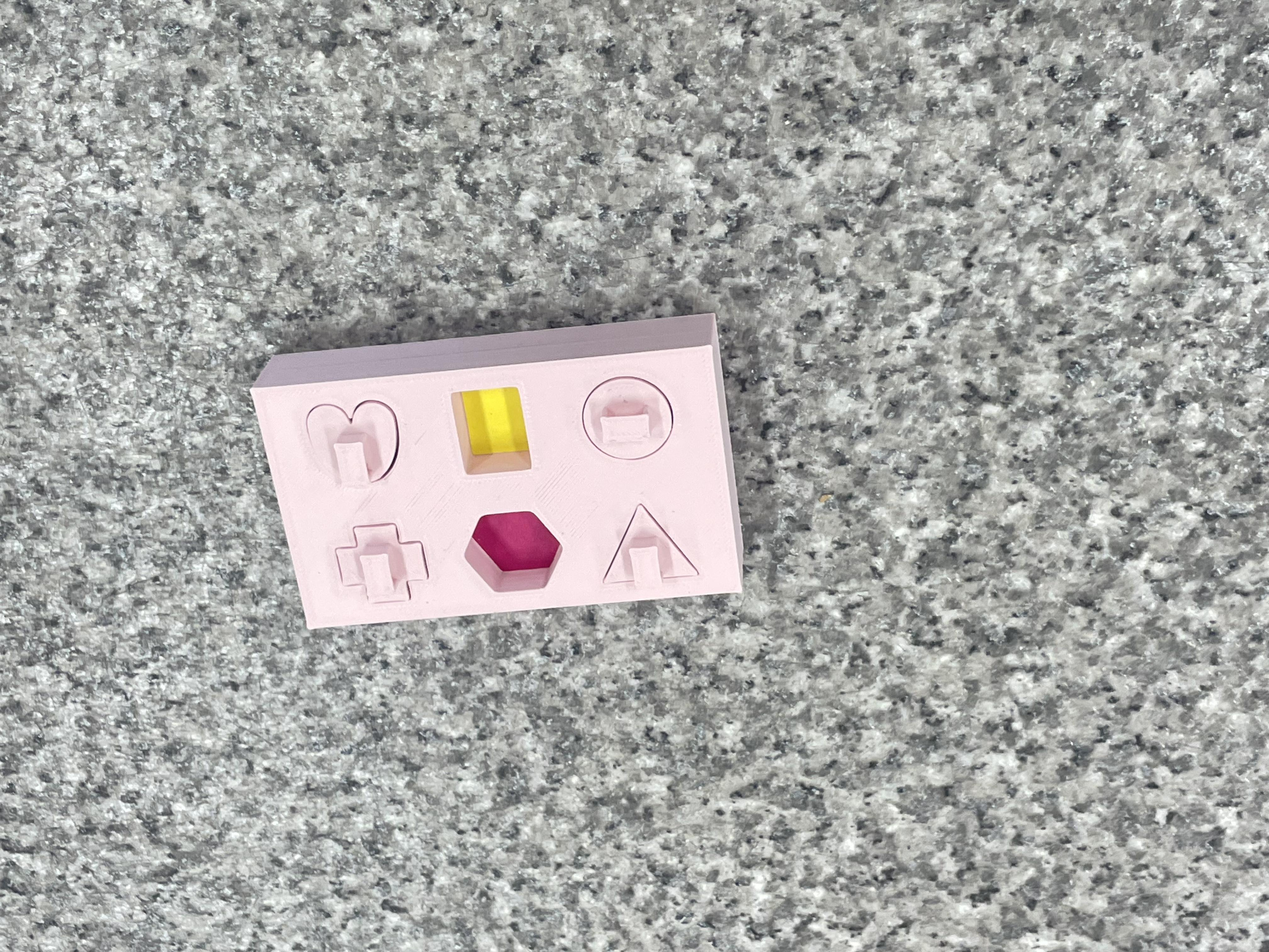unsolved: (238, 326, 749, 638)
